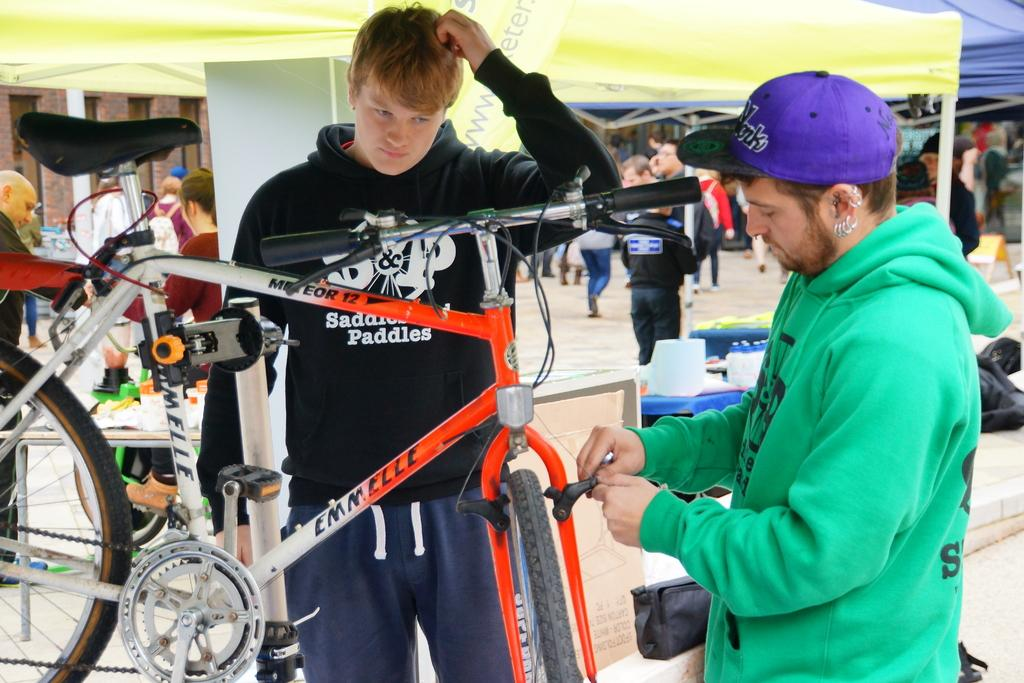Hat: (672, 66, 908, 185)
